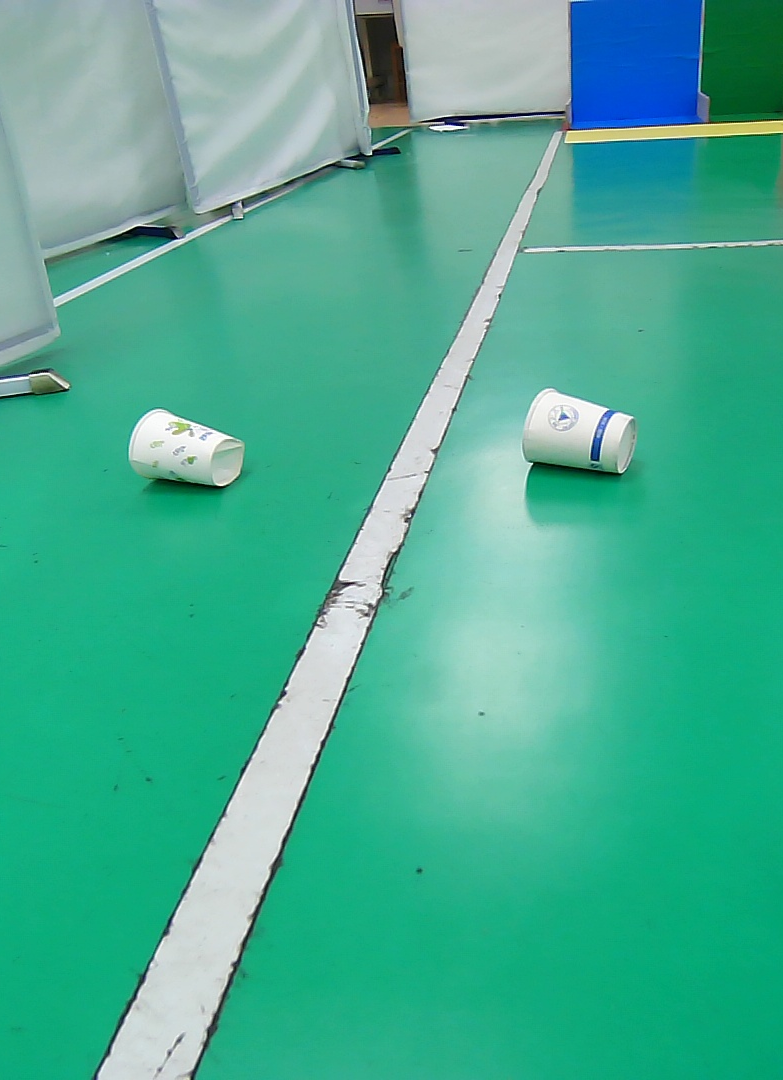papercup: (516, 385, 641, 479), (124, 404, 249, 494)
